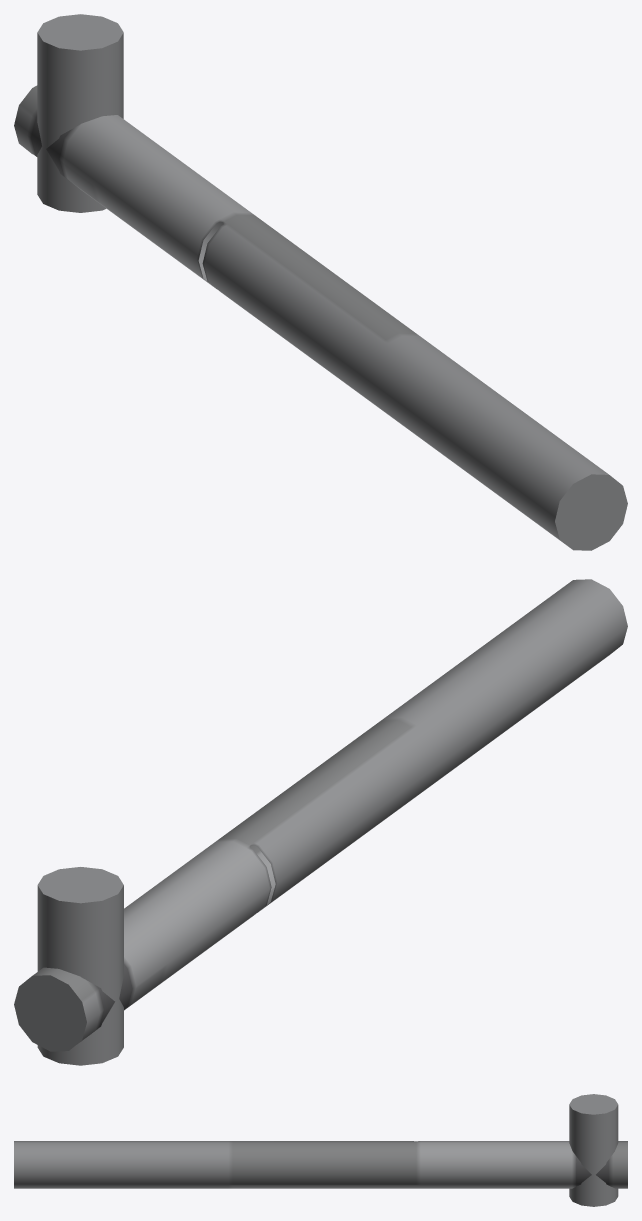
3 renders of one model, top to bottom at view 1: azimuth 30°, elevation 25°; view 2: azimuth 150°, elevation 25°; view 3: azimuth 270°, elevation 25°, orthographic. The views are drawn at different scales.
Bounding box in the file's own units: 0.1956 × 0.4059 × 2.45.
